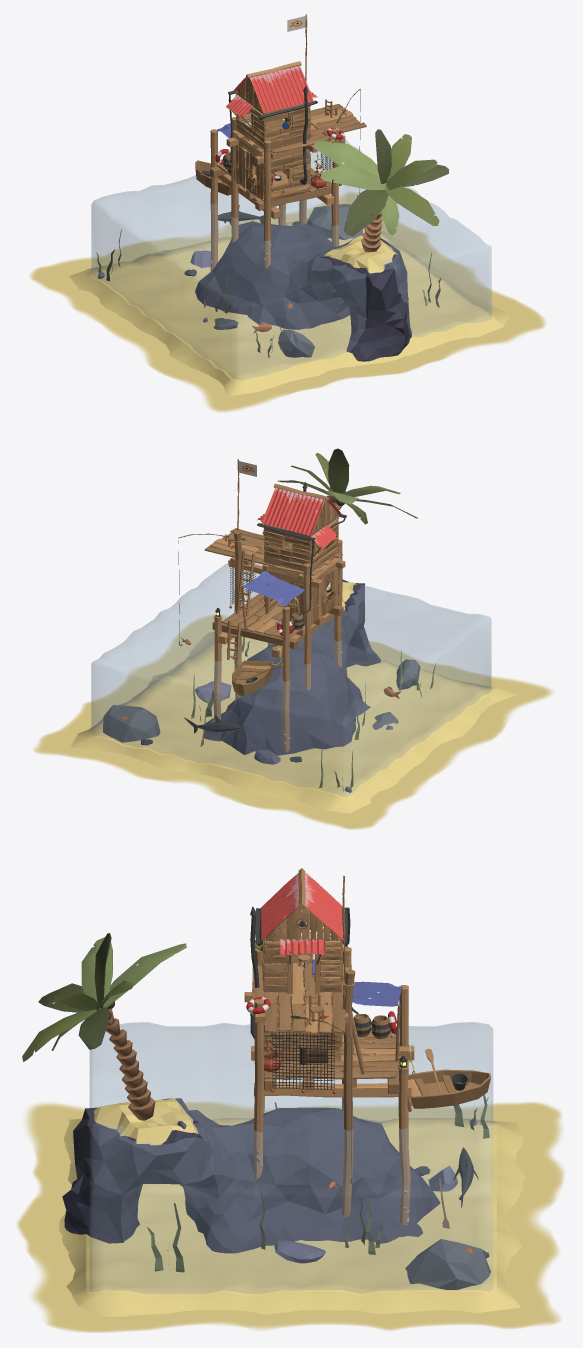
Rendered from esc-playa-v1.glb.
3 views of the same model, one above another, from view 1: azimuth 30°, elevation 25°; view 2: azimuth 150°, elevation 25°; view 3: azimuth 270°, elevation 25° (orthographic). The views are drawn at different scales.
Parts seen in each view (by area): view 1: Water_334, Sand bottom_333, Rock main_336, Sand bottom.001_384, Palm tree_348, Roof plane_41, Island_335, Rocks_337, Cylinder.002_5, Cylinder.001_4, Rocks.001_338, Cylinder.005_12 (+4 smaller); view 2: Water_334, Sand bottom_333, Sand bottom.001_384, Rock main_336, Palm tree_348, Roof plane.001_40, Rocks_337, Cube.170_346, Cylinder.002_5, Plane.001_323, Cylinder.005_12, Plane.029_363 (+7 smaller); view 3: Water_334, Sand bottom_333, Rock main_336, Sand bottom.001_384, Palm tree_348, Rocks_337, Island_335, Cube.170_346, Fishnet_219, Cylinder.004_11, Plane.029_363, Cube.022_7 (+8 smaller).
Part boxes in pixels (bbox=[...]): Water_334: bbox=[91, 140, 491, 379]; Sand bottom_333: bbox=[69, 219, 509, 397]; Rock main_336: bbox=[195, 221, 411, 361]; Sand bottom.001_384: bbox=[29, 192, 546, 412]; Palm tree_348: bbox=[314, 129, 448, 252]; Roof plane_41: bbox=[249, 65, 313, 113]; Island_335: bbox=[324, 235, 397, 273]; Rocks_337: bbox=[307, 204, 363, 240]; Cylinder.002_5: bbox=[210, 129, 218, 271]; Cylinder.001_4: bbox=[264, 140, 271, 268]; Rocks.001_338: bbox=[278, 329, 314, 357]; Cylinder.005_12: bbox=[231, 117, 238, 242]; Water_334: bbox=[91, 562, 491, 796]; Sand bottom_333: bbox=[70, 632, 517, 813]; Sand bottom.001_384: bbox=[33, 614, 553, 829]; Rock main_336: bbox=[203, 579, 380, 755]; Palm tree_348: bbox=[277, 448, 417, 587]; Roof plane.001_40: bbox=[261, 487, 325, 536]; Rocks_337: bbox=[102, 705, 160, 742]; Cube.170_346: bbox=[232, 660, 283, 695]; Cylinder.002_5: bbox=[282, 606, 289, 751]; Plane.001_323: bbox=[244, 571, 304, 605]; Cylinder.005_12: bbox=[303, 563, 311, 690]; Plane.029_363: bbox=[191, 637, 435, 791]; Water_334: bbox=[90, 1022, 492, 1293]; Sand bottom_333: bbox=[59, 1118, 525, 1316]; Rock main_336: bbox=[62, 1098, 440, 1253]; Sand bottom.001_384: bbox=[16, 1102, 564, 1332]; Palm tree_348: bbox=[22, 933, 186, 1120]; Rocks_337: bbox=[405, 1239, 490, 1289]; Island_335: bbox=[94, 1098, 198, 1145]; Cube.170_346: bbox=[408, 1048, 490, 1108]; Fishnet_219: bbox=[270, 1032, 336, 1094]; Cylinder.004_11: bbox=[341, 969, 355, 1216]; Plane.029_363: bbox=[147, 1094, 489, 1272]; Cube.022_7: bbox=[254, 1082, 411, 1097].
Bounding box in the file's own units: 22.27 × 16.16 × 22.27.
Materials: 26 (2 with a texture image).
